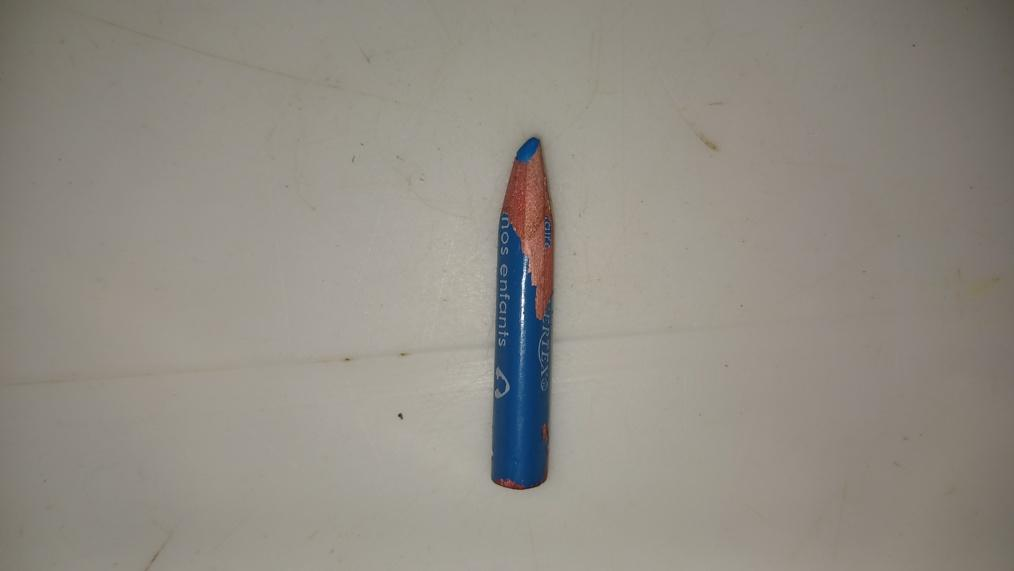Pencil: (490, 136, 550, 492)
